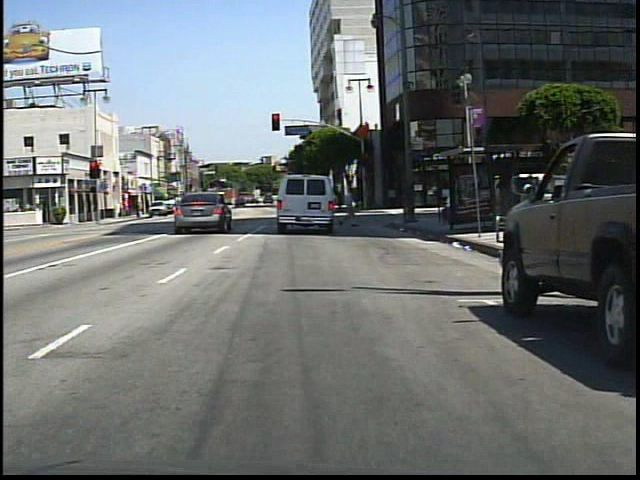person: (339, 182, 362, 229), (189, 192, 204, 218)
